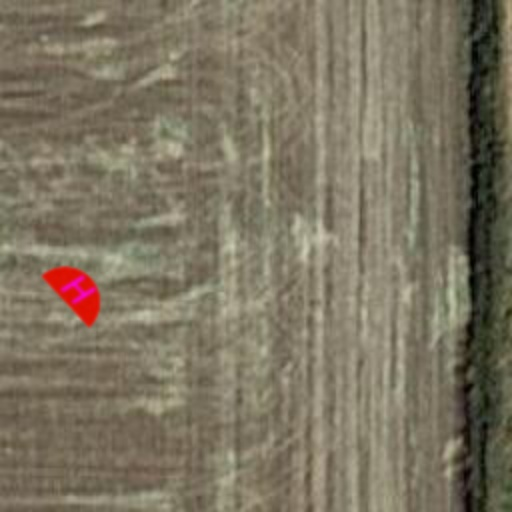semicircle: (26, 238, 130, 342)
